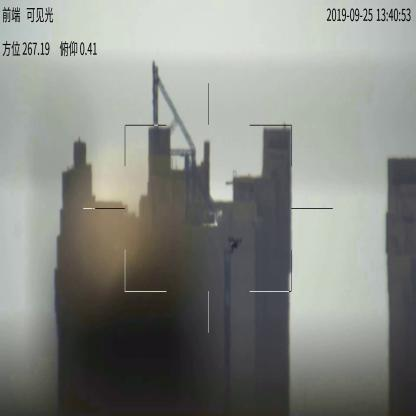uav: (228, 233, 243, 255)
